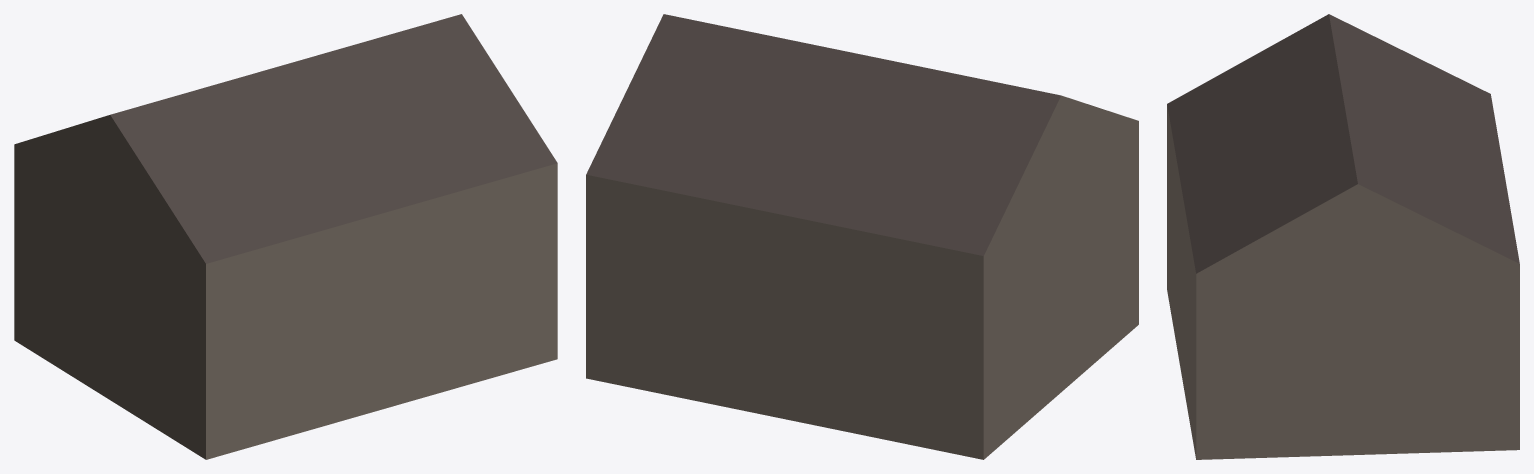
3 views of the same model, side by side, from view 1: azimuth 30°, elevation 25°; view 2: azimuth 150°, elevation 25°; view 3: azimuth 270°, elevation 25° (orthographic). The views are drawn at different scales.
Visible parts, largest first — view 1: HP-w859424186; view 2: HP-w859424186; view 3: HP-w859424186.
Part boxes in pixels (bbox=[...]): HP-w859424186: bbox=[14, 14, 557, 459]; HP-w859424186: bbox=[586, 14, 1138, 459]; HP-w859424186: bbox=[1167, 14, 1519, 459].
Size of the model in its own units: 18.67 by 13.11 by 15.47.
